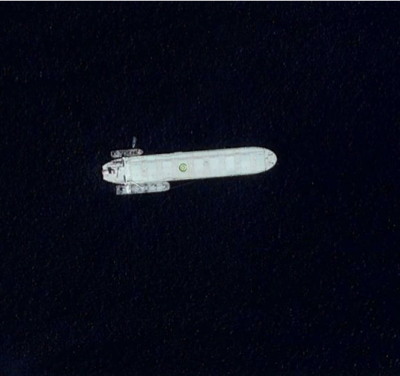boat: (102, 146, 278, 195)
